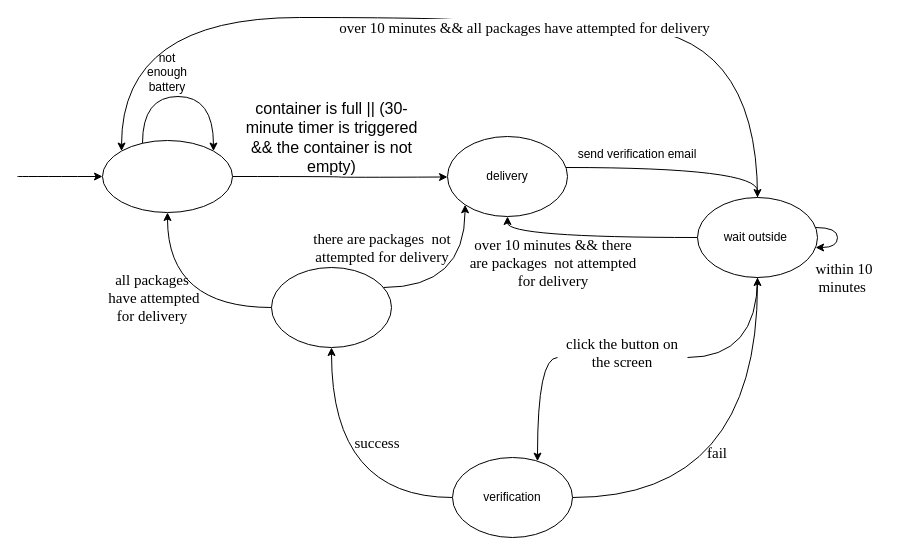
Some shapes in this 902 by 555 pixel diagram are drawn without their labels. Each missing label, with the box of its shape:
charging: (102, 140, 232, 212)
fetch package: (270, 266, 392, 348)
